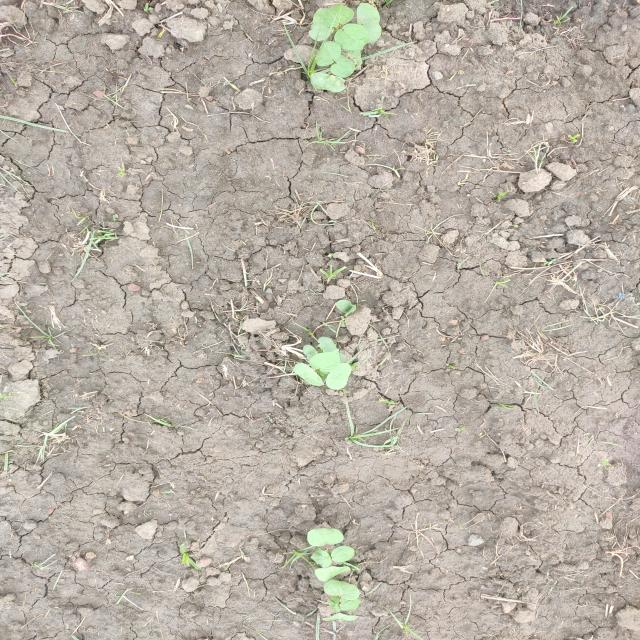seedling: (357, 3, 382, 43), (334, 24, 368, 51), (308, 8, 335, 41), (323, 3, 354, 27), (294, 362, 325, 386), (310, 72, 345, 93), (326, 363, 352, 390), (324, 580, 359, 600), (310, 349, 340, 372), (307, 528, 344, 546), (315, 41, 341, 66), (330, 54, 355, 78), (314, 566, 351, 581), (311, 548, 332, 568), (331, 546, 355, 563), (318, 337, 337, 352), (336, 300, 356, 314), (323, 613, 357, 621), (339, 599, 361, 611), (303, 345, 318, 362), (348, 50, 362, 66), (329, 595, 340, 612)
